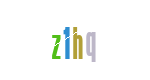1: (29, 0, 109, 80)
H: (35, 0, 115, 80)
Q: (44, 0, 124, 80)
Z: (26, 0, 106, 80)
